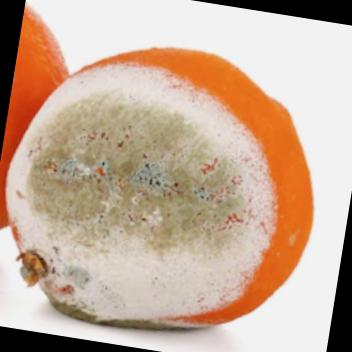Orange Rotten: (0, 16, 340, 352)
